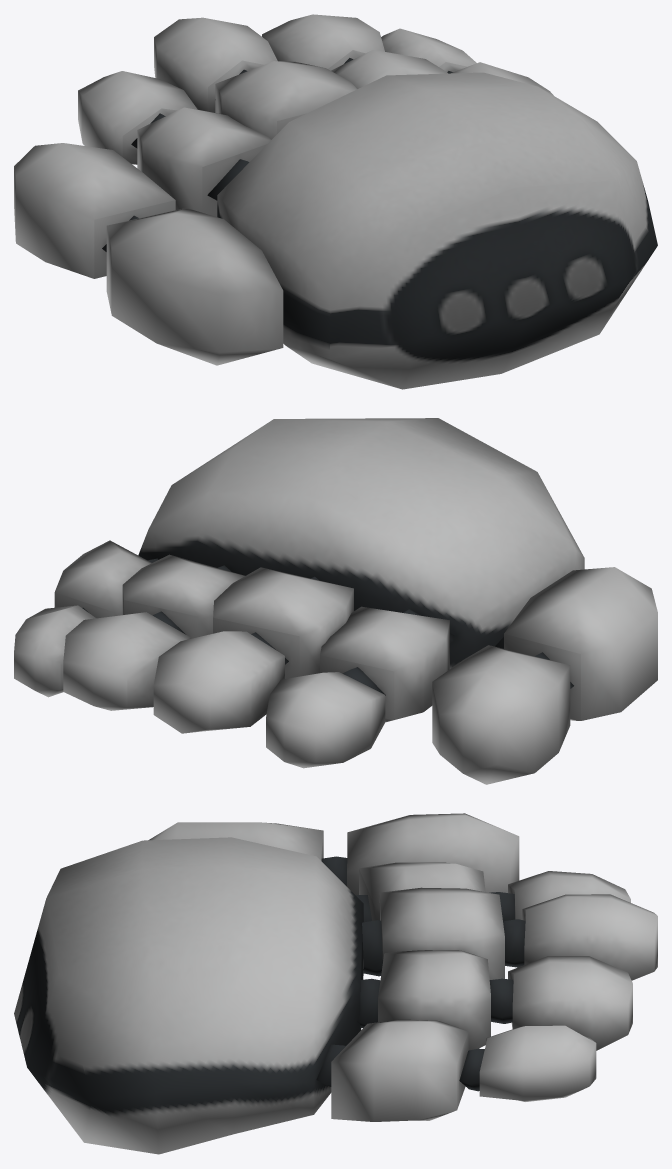
The model's file is right-hand.glb.
3 views of the same model, one above another, from view 1: azimuth 30°, elevation 25°; view 2: azimuth 150°, elevation 25°; view 3: azimuth 270°, elevation 25° (orthographic). The views are drawn at different scales.
Visible parts, largest first — view 1: Robot001_mesh; view 2: Robot001_mesh; view 3: Robot001_mesh.
Boxes of the visible parts, x1,y1,x2,y2 form: Robot001_mesh: [14, 14, 657, 389]; Robot001_mesh: [14, 418, 657, 784]; Robot001_mesh: [14, 813, 657, 1154].
Size of the model in its own units: 0.2787 by 0.1234 by 0.3055.
Materials: 1 (1 with a texture image).
